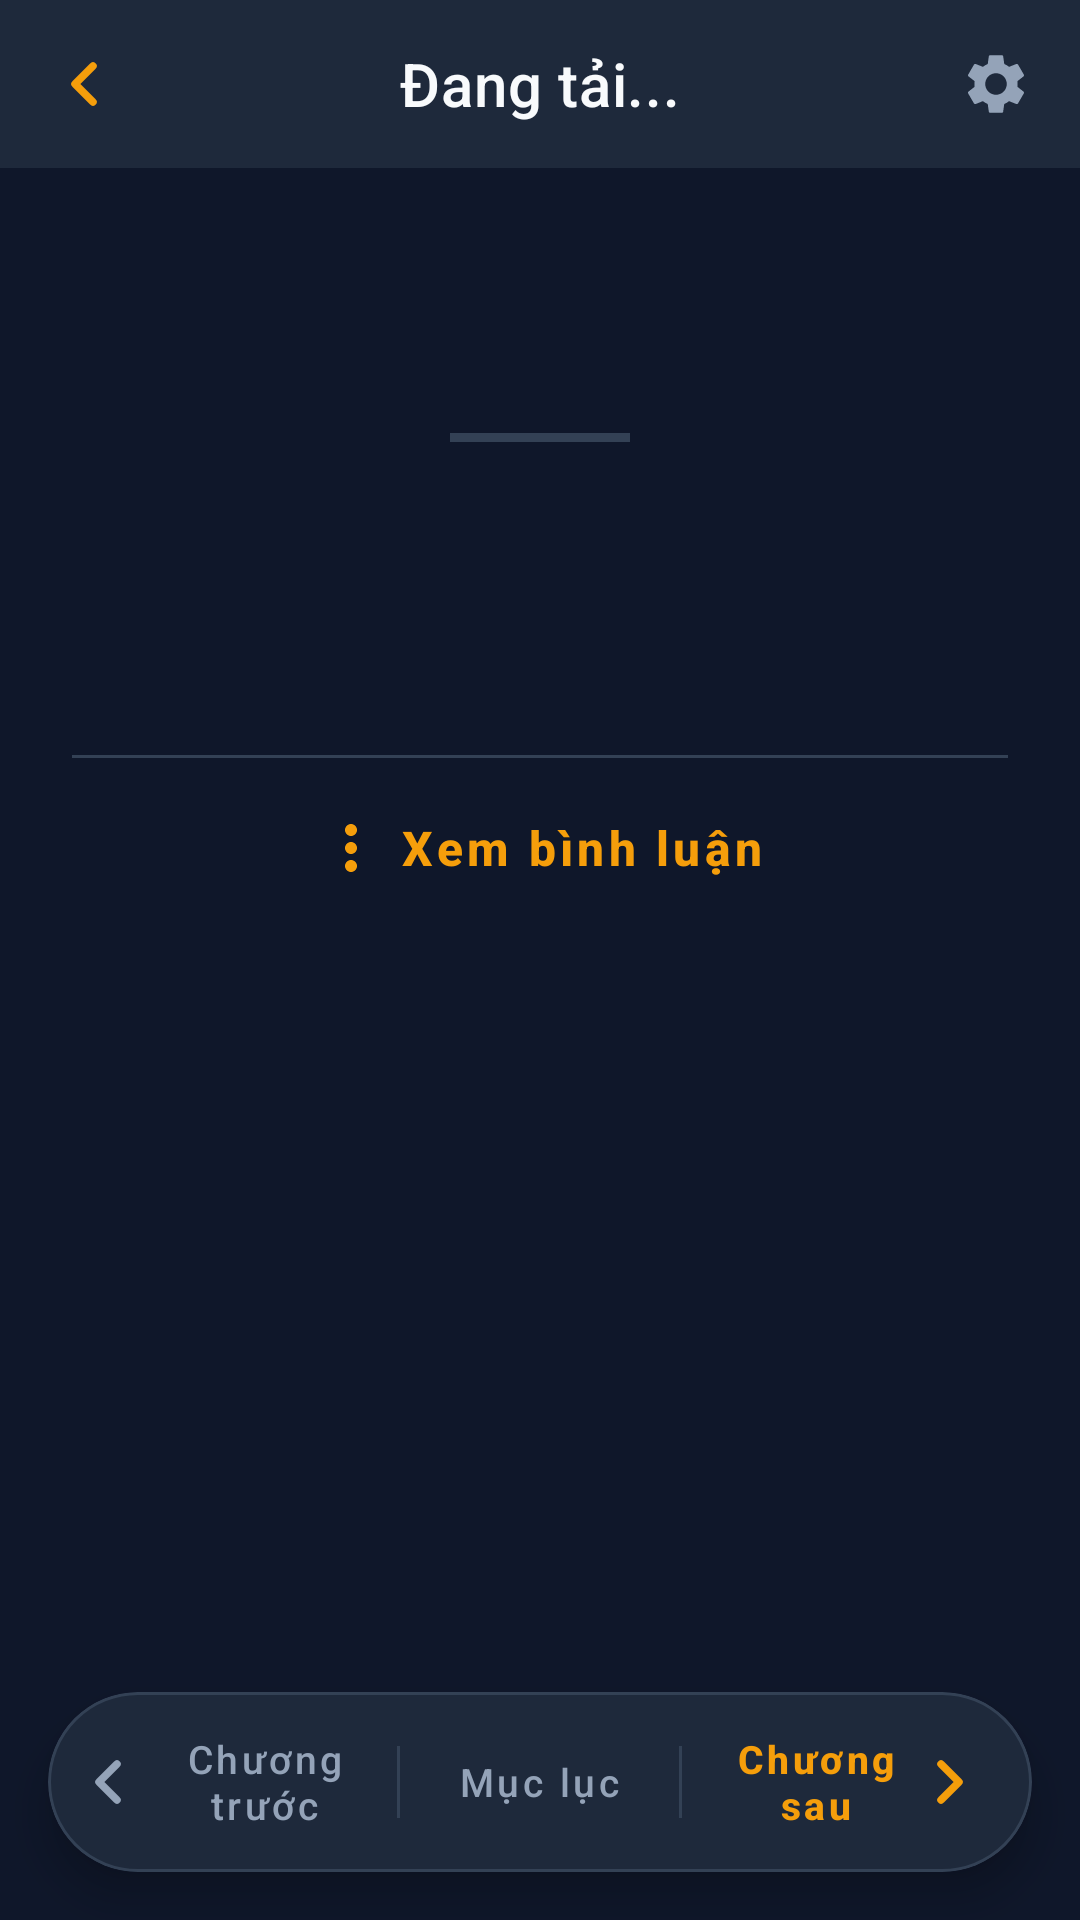

Named icons in this screenshot (1080 × 1920) and their bounding boxes, (x1, y1, x2, y2):
Cài đặt đọc: (968, 55, 1024, 113)
